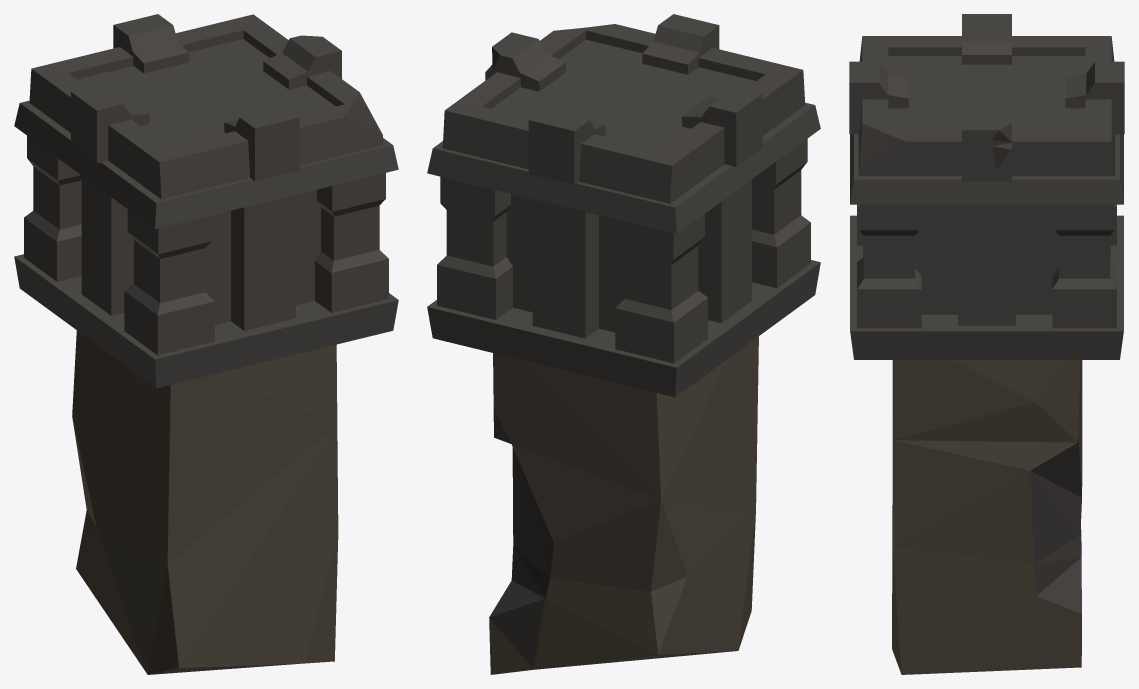
Rendered from Pillar_1E.fbx.
3 views of the same model, side by side, from view 1: azimuth 30°, elevation 25°; view 2: azimuth 150°, elevation 25°; view 3: azimuth 270°, elevation 25° (orthographic). The views are drawn at different scales.
Parts seen in each view (by area): view 1: polySurface1002; view 2: polySurface1002; view 3: polySurface1002.
Part boxes in pixels (x1=…): polySurface1002: x1=14, y1=14, x2=398, y2=674; polySurface1002: x1=427, y1=14, x2=820, y2=674; polySurface1002: x1=849, y1=14, x2=1124, y2=674.
Size of the model in its own units: 1.83 by 4.13 by 1.83.
